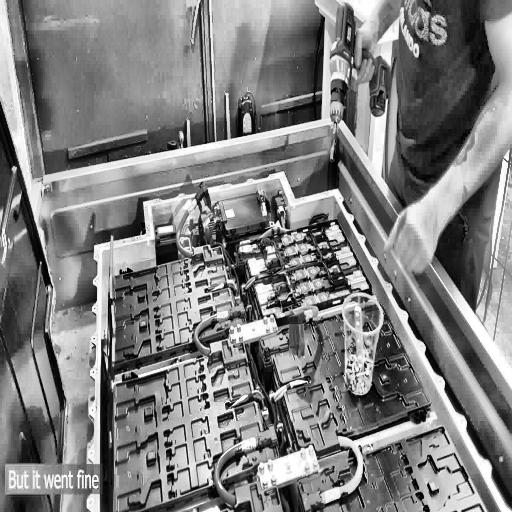high_volt_cable: (211, 423, 278, 508), (301, 431, 365, 512), (192, 303, 245, 358), (174, 182, 208, 263), (275, 301, 320, 322)
low_volt_cable: (240, 229, 346, 294), (224, 375, 313, 414)
nut: (270, 474, 277, 484), (312, 458, 318, 468), (300, 446, 306, 456), (304, 461, 310, 471), (267, 458, 273, 468), (262, 478, 268, 488), (308, 444, 314, 453), (258, 463, 264, 472), (265, 324, 270, 332), (231, 336, 236, 344), (263, 315, 268, 322), (270, 314, 274, 322), (272, 323, 276, 330), (239, 333, 243, 340), (237, 324, 241, 330), (230, 326, 234, 332)
